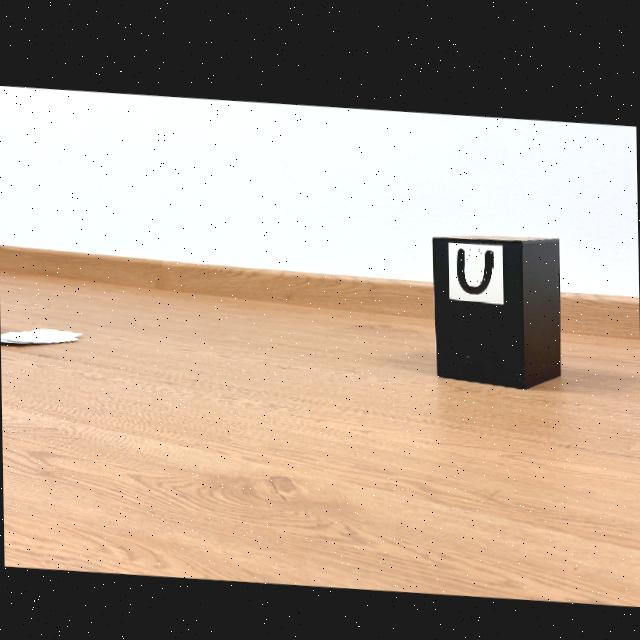U: (457, 240, 492, 287)
